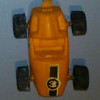naranja_sur: (14, 1, 89, 98)
